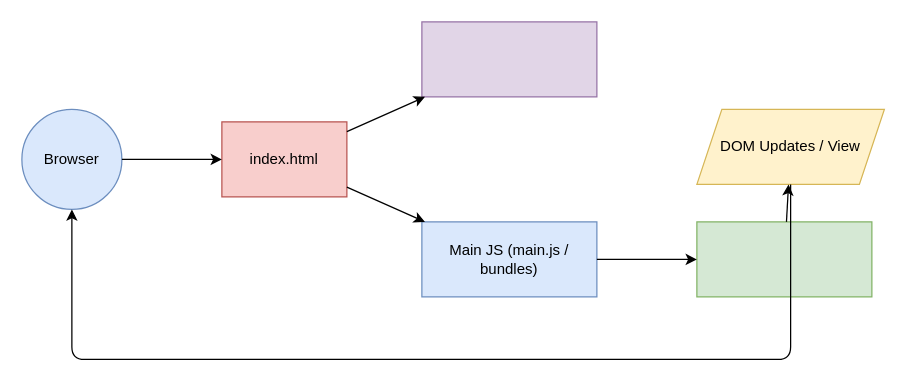
The diagram is 906 pixels wide and 391 high, and some of its shapes have lost their labels. Each missing label, with the centre of its shape:
"Component Modules (Modals, Logic)" belongs at (x=784, y=259).
"Global CSS (index.css)" belongs at (x=509, y=59).
